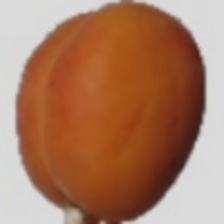apricot: (41, 49, 182, 199)
